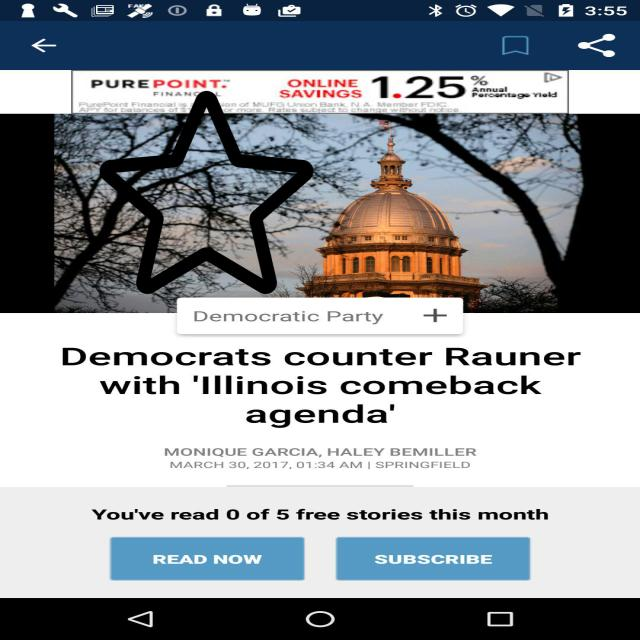forced continuity: (100, 86, 314, 298)
